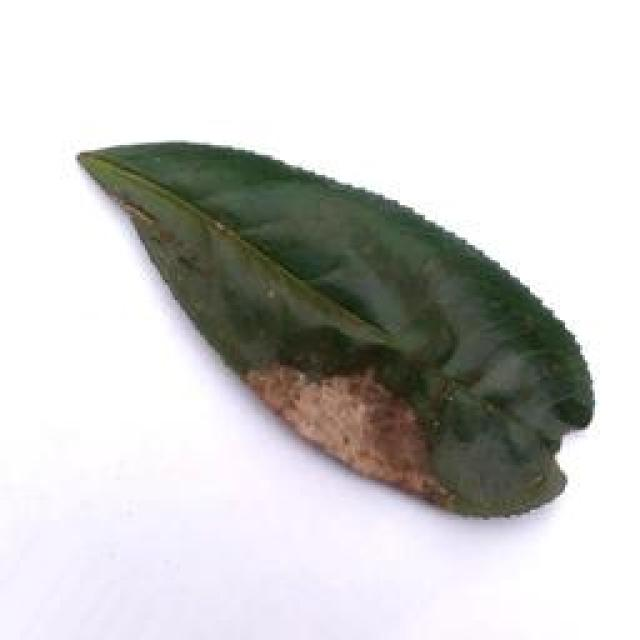Gray Blight: (70, 134, 598, 527)
